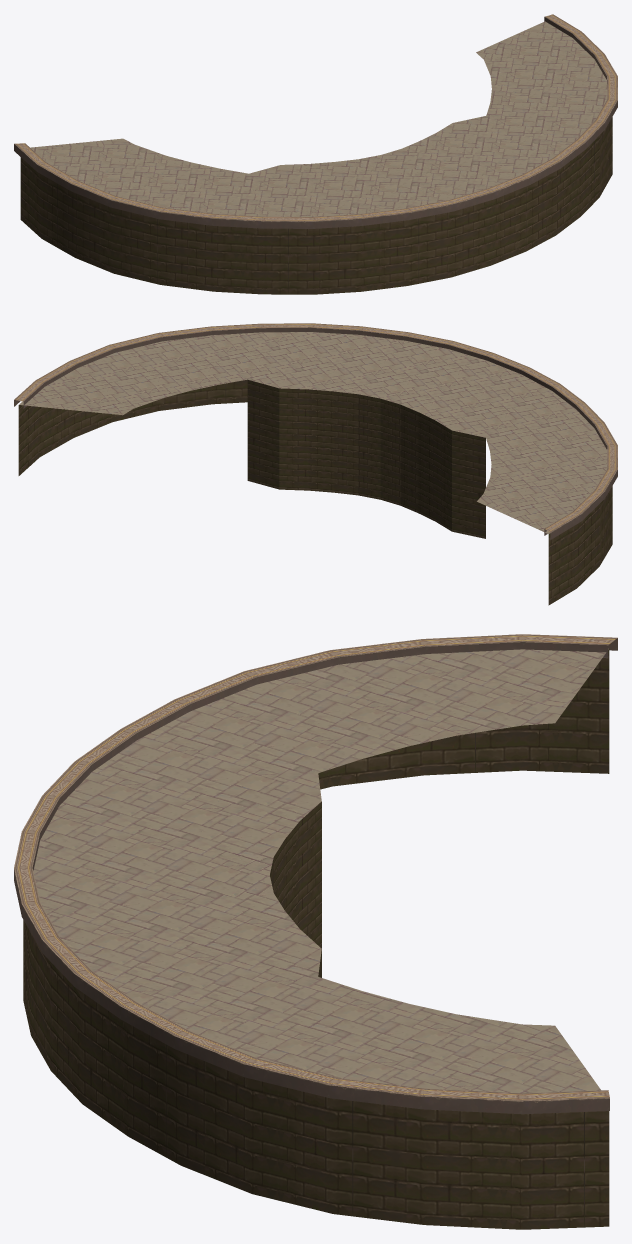
Rendered from fb_jjc_dm_01.FBX.
3 views of the same model, one above another, from view 1: azimuth 30°, elevation 25°; view 2: azimuth 150°, elevation 25°; view 3: azimuth 270°, elevation 25° (orthographic). The views are drawn at different scales.
Parts seen in each view (by area): view 1: fb_jjc_dimian_01_c, fb_jjc_dimian_01_b, fb_jjc_dimian_01_a; view 2: fb_jjc_dimian_01_b, fb_jjc_dimian_01_c, fb_jjc_dimian_01_a; view 3: fb_jjc_dimian_01_b, fb_jjc_dimian_01_c, fb_jjc_dimian_01_a.
Part boxes in pixels (<box>): fb_jjc_dimian_01_c: <box>20,117,612,294</box>; fb_jjc_dimian_01_b: <box>30,21,607,216</box>; fb_jjc_dimian_01_a: <box>14,14,617,228</box>; fb_jjc_dimian_01_b: <box>19,332,606,533</box>; fb_jjc_dimian_01_c: <box>18,379,612,605</box>; fb_jjc_dimian_01_a: <box>14,323,617,539</box>; fb_jjc_dimian_01_b: <box>33,648,608,1093</box>; fb_jjc_dimian_01_c: <box>23,649,609,1229</box>; fb_jjc_dimian_01_a: <box>14,634,617,1114</box>.
Size of the model in its own units: 8411 by 1550 by 4597.
Materials: 3 (3 with a texture image).
